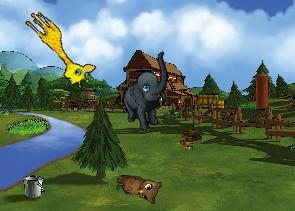elephant: (111, 51, 185, 134)
giraffe: (15, 7, 100, 92)
owl: (115, 175, 162, 204)
